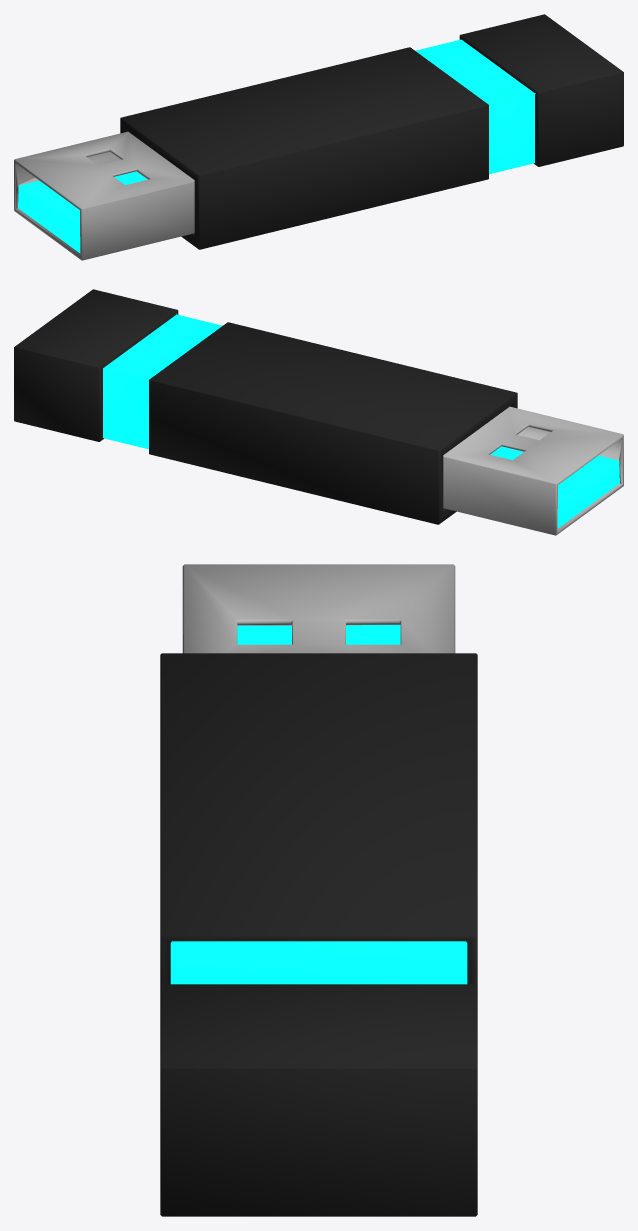
File: Pen_Drive_Black.fbx
3 renders of one model, top to bottom at view 1: azimuth 30°, elevation 25°; view 2: azimuth 150°, elevation 25°; view 3: azimuth 270°, elevation 25°, orthographic. The views are drawn at different scales.
Parts seen in each view (by area): view 1: Pen_Drive; view 2: Pen_Drive; view 3: Pen_Drive.
Part boxes in pixels (box(x1,y1,x2,y2)): Pen_Drive: box(14, 14, 623, 260); Pen_Drive: box(14, 289, 623, 535); Pen_Drive: box(160, 564, 477, 1216).
Bounding box in the file's own units: 138 × 18.39 × 35.32.
